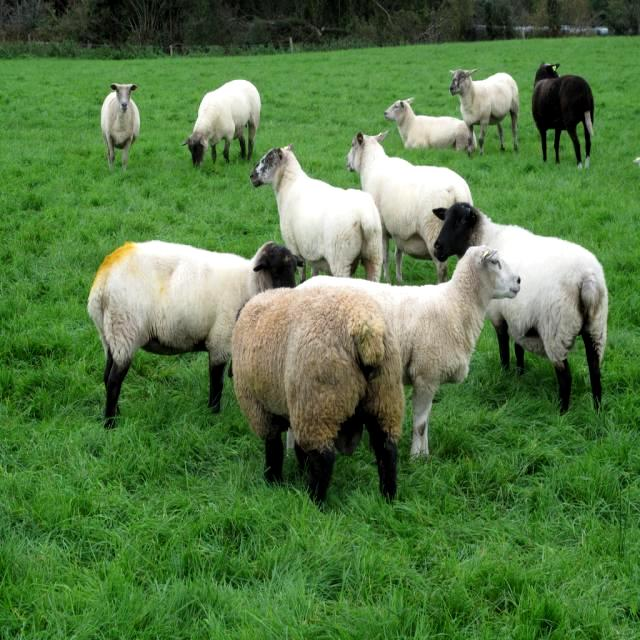sheep: (92, 239, 281, 428)
